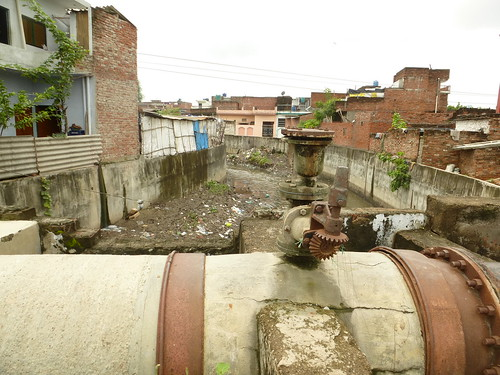building: (1, 1, 139, 161), (307, 62, 455, 139), (211, 89, 286, 142)
sky: (140, 1, 500, 86)
